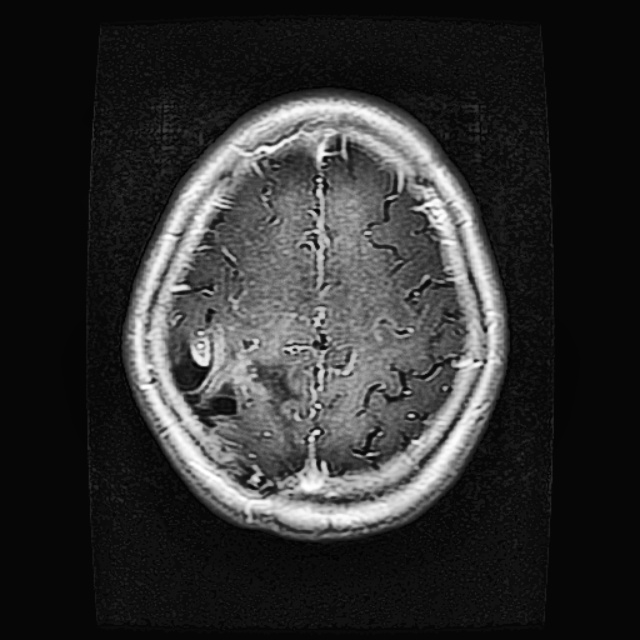Glioma: (172, 329, 308, 477)
